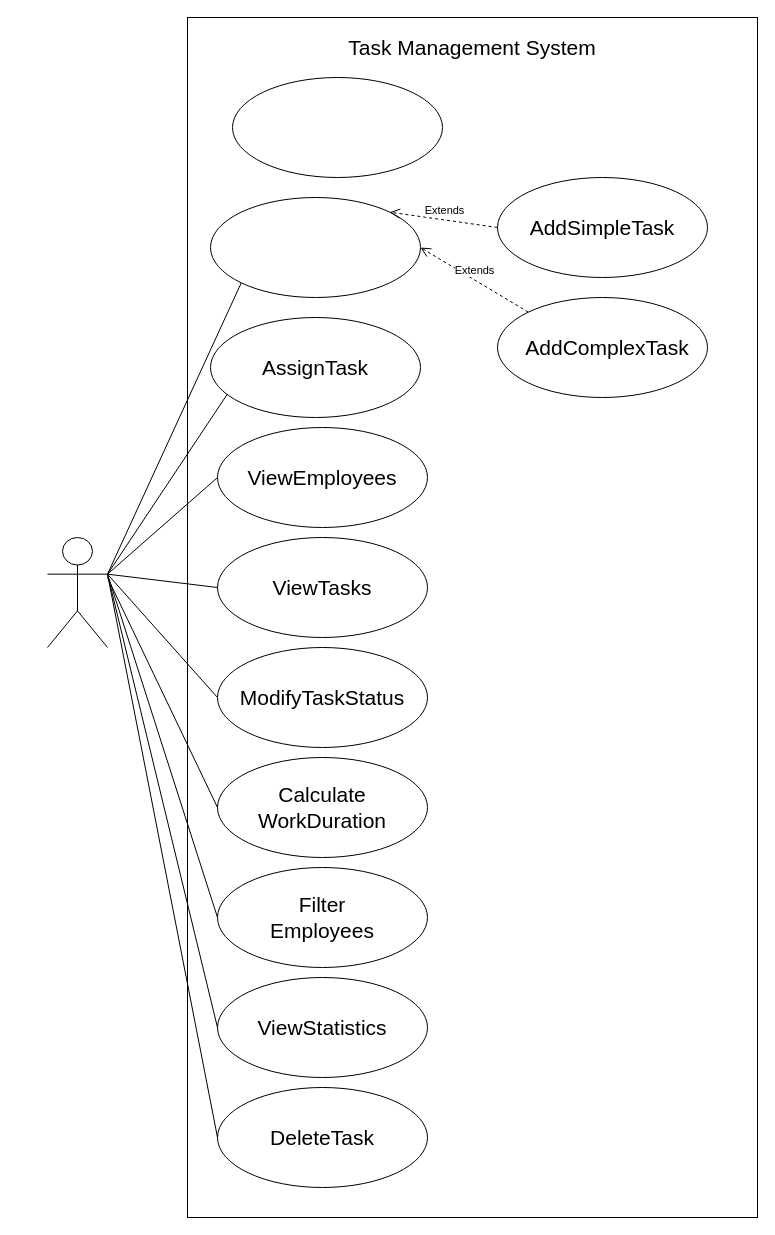
Some shapes in this 775 by 1235 pixel diagram are drawn without their labels. The shapes that lost their labels are listed below. From the top down, each one's box as (x1, y1, x2, y2) in pixels, then its label:
(232, 76, 442, 178): AddEmployee
(210, 196, 420, 298): AddTask
(46, 536, 108, 648): ProjectManager
